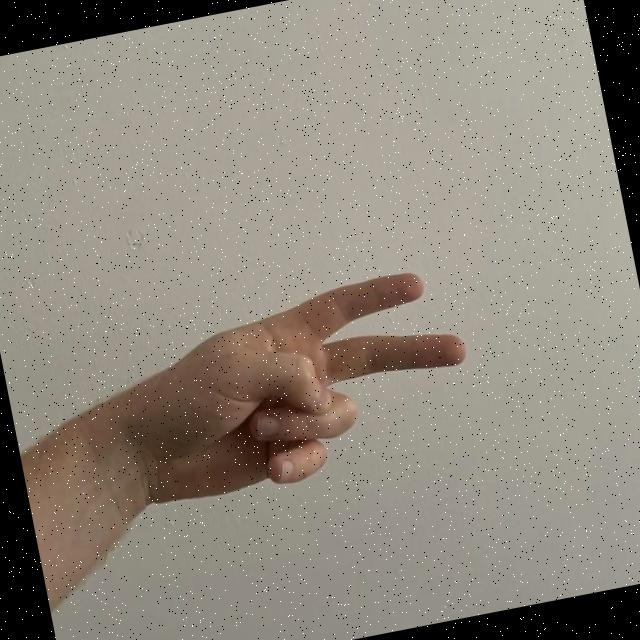scissors: (92, 258, 496, 527)
